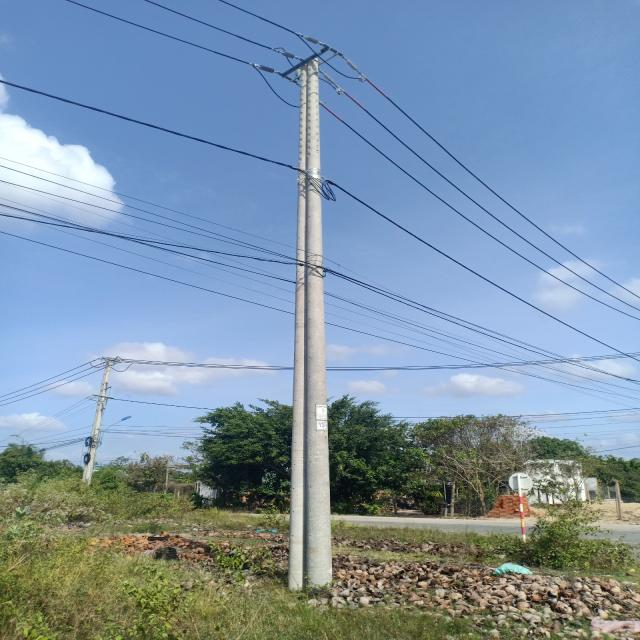light_pole: (283, 48, 335, 587)
